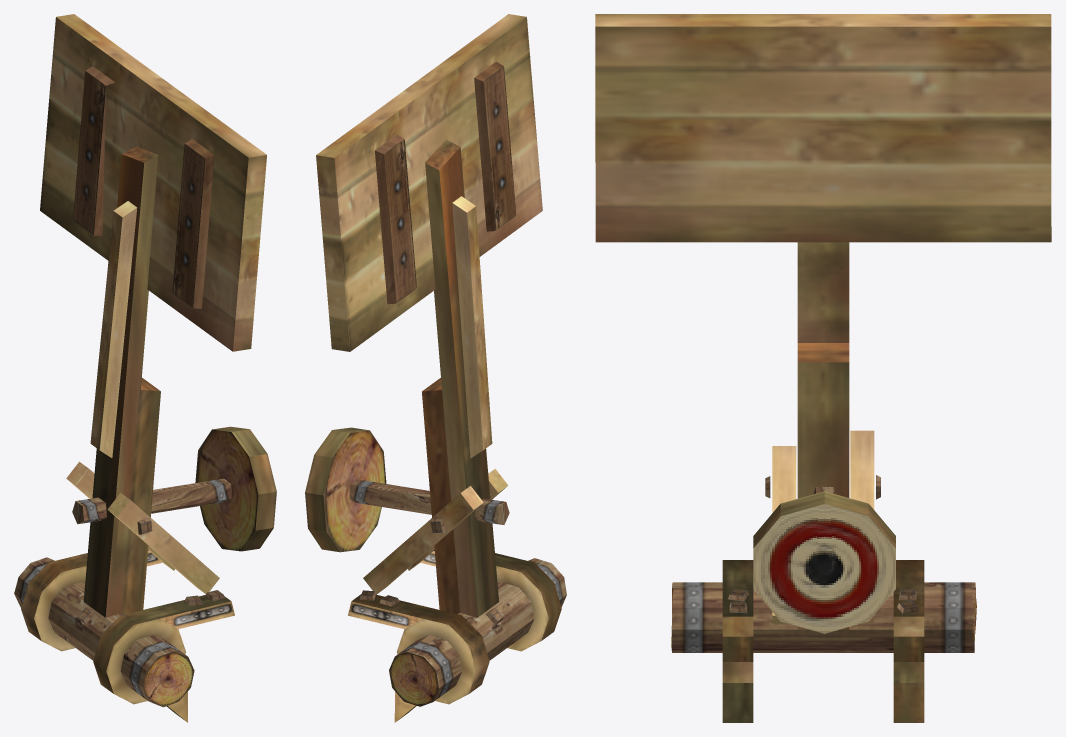
Rendered from P_Modul_37.FBX.
3 renders of one model, left to right at view 1: azimuth 30°, elevation 25°; view 2: azimuth 150°, elevation 25°; view 3: azimuth 270°, elevation 25°, orthographic. The views are drawn at different scales.
Parts seen in each view (by area): view 1: P_Modul_37_Bridge_03, P_Modul_37_Bridge_01, P_Modul_37_Bridge_02, P_Modul_37_Hinge, P_Modul_37_Bridge_04, P_Modul_37_Bridge_005; view 2: P_Modul_37_Bridge_03, P_Modul_37_Bridge_01, P_Modul_37_Bridge_02, P_Modul_37_Hinge, P_Modul_37_Bridge_04, P_Modul_37_Bridge_005; view 3: P_Modul_37_Bridge_03, P_Modul_37_Bridge_02, P_Modul_37_Bridge_01, P_Modul_37_Bridge_04, P_Modul_37_Hinge, P_Modul_37_Bridge_005.
Part boxes in pixels (bbox=[...]): P_Modul_37_Bridge_03: bbox=[40, 14, 266, 351]; P_Modul_37_Bridge_01: bbox=[72, 146, 160, 623]; P_Modul_37_Bridge_02: bbox=[151, 426, 276, 551]; P_Modul_37_Hinge: bbox=[21, 550, 234, 722]; P_Modul_37_Bridge_04: bbox=[14, 557, 194, 707]; P_Modul_37_Bridge_005: bbox=[66, 461, 219, 593]; P_Modul_37_Bridge_03: bbox=[316, 14, 542, 351]; P_Modul_37_Bridge_01: bbox=[422, 139, 509, 625]; P_Modul_37_Bridge_02: bbox=[305, 427, 431, 552]; P_Modul_37_Hinge: bbox=[348, 550, 561, 722]; P_Modul_37_Bridge_04: bbox=[389, 558, 566, 706]; P_Modul_37_Bridge_005: bbox=[363, 468, 508, 594]; P_Modul_37_Bridge_03: bbox=[595, 14, 1051, 242]; P_Modul_37_Bridge_02: bbox=[753, 487, 895, 633]; P_Modul_37_Bridge_01: bbox=[797, 242, 849, 629]; P_Modul_37_Bridge_04: bbox=[671, 582, 976, 652]; P_Modul_37_Hinge: bbox=[722, 560, 924, 722]; P_Modul_37_Bridge_005: bbox=[765, 430, 880, 624].
Bounding box in the file's own units: 5.06 × 15.58 × 9.03.
6 materials, 6 textured.
